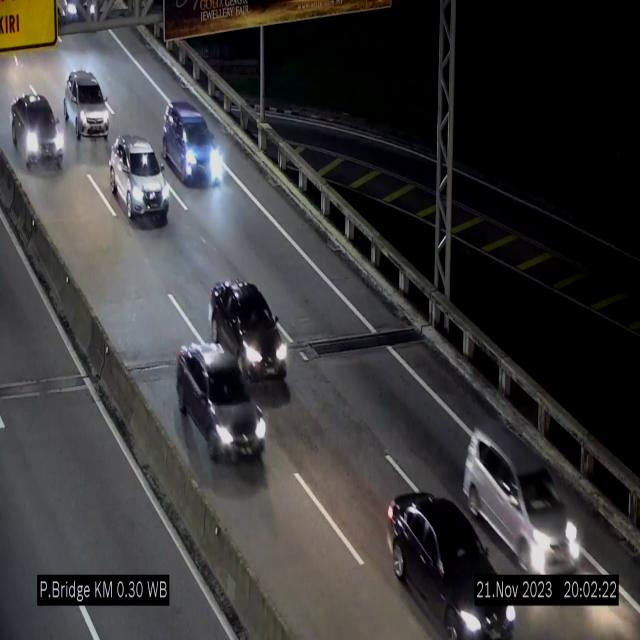Car: (381, 490, 522, 640), (466, 422, 583, 580), (169, 339, 269, 463), (208, 276, 292, 390), (8, 83, 66, 177), (109, 136, 169, 222), (162, 102, 215, 184), (63, 74, 109, 138)
